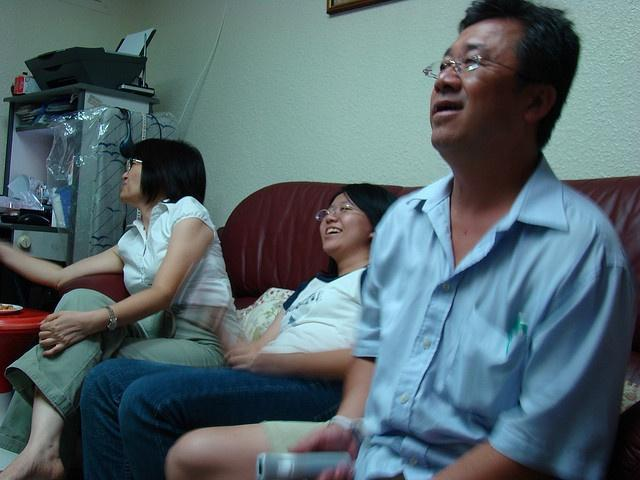Printer: (24, 27, 157, 89)
